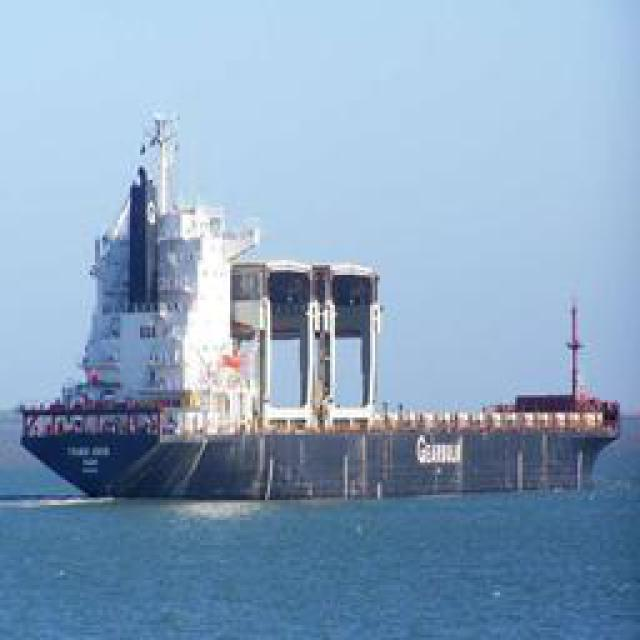Ship: (27, 90, 485, 505)
